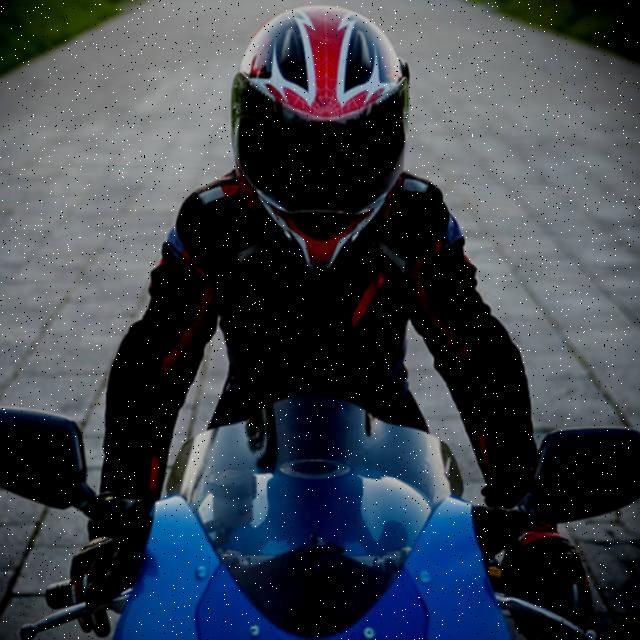not_triplets: (0, 0, 640, 640)
with-helmet: (237, 5, 420, 270)
